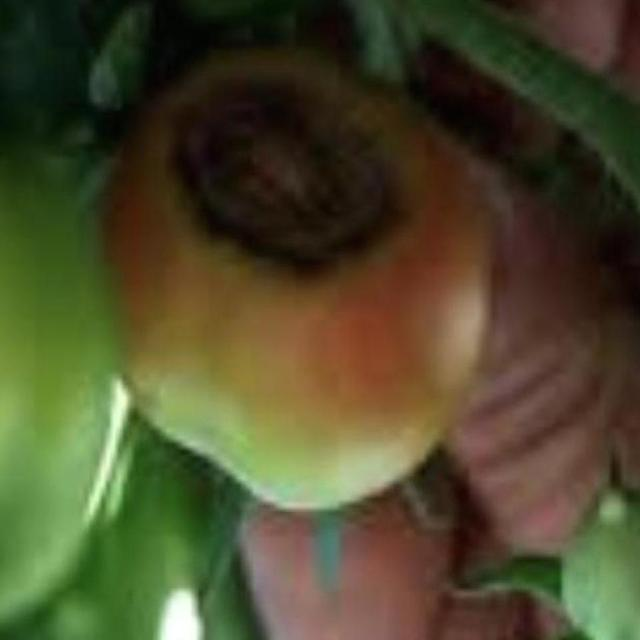Blossom End Rot Fruit: (109, 47, 270, 196)
